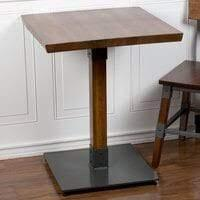Clean Table: (1, 0, 200, 73)
